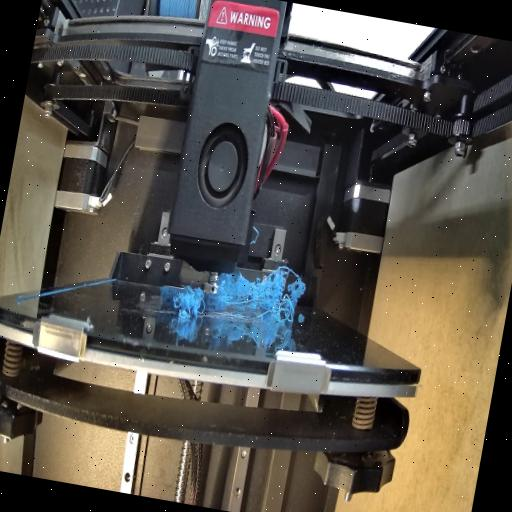spaghetti: (212, 267, 304, 329), (164, 282, 212, 330)
